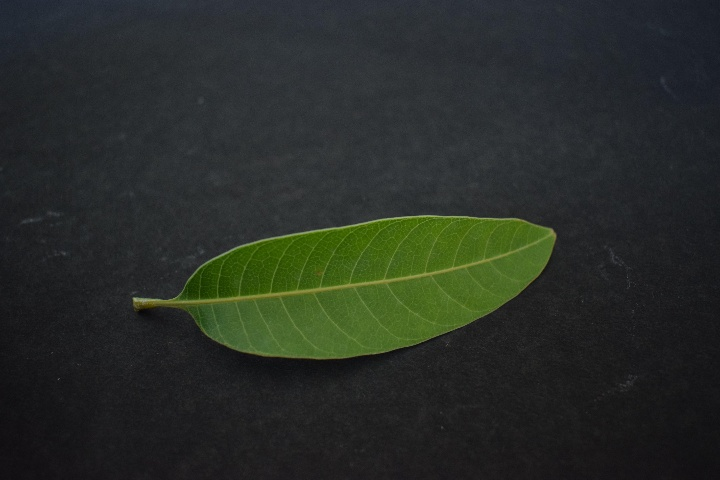healthy: (181, 210, 537, 360)
